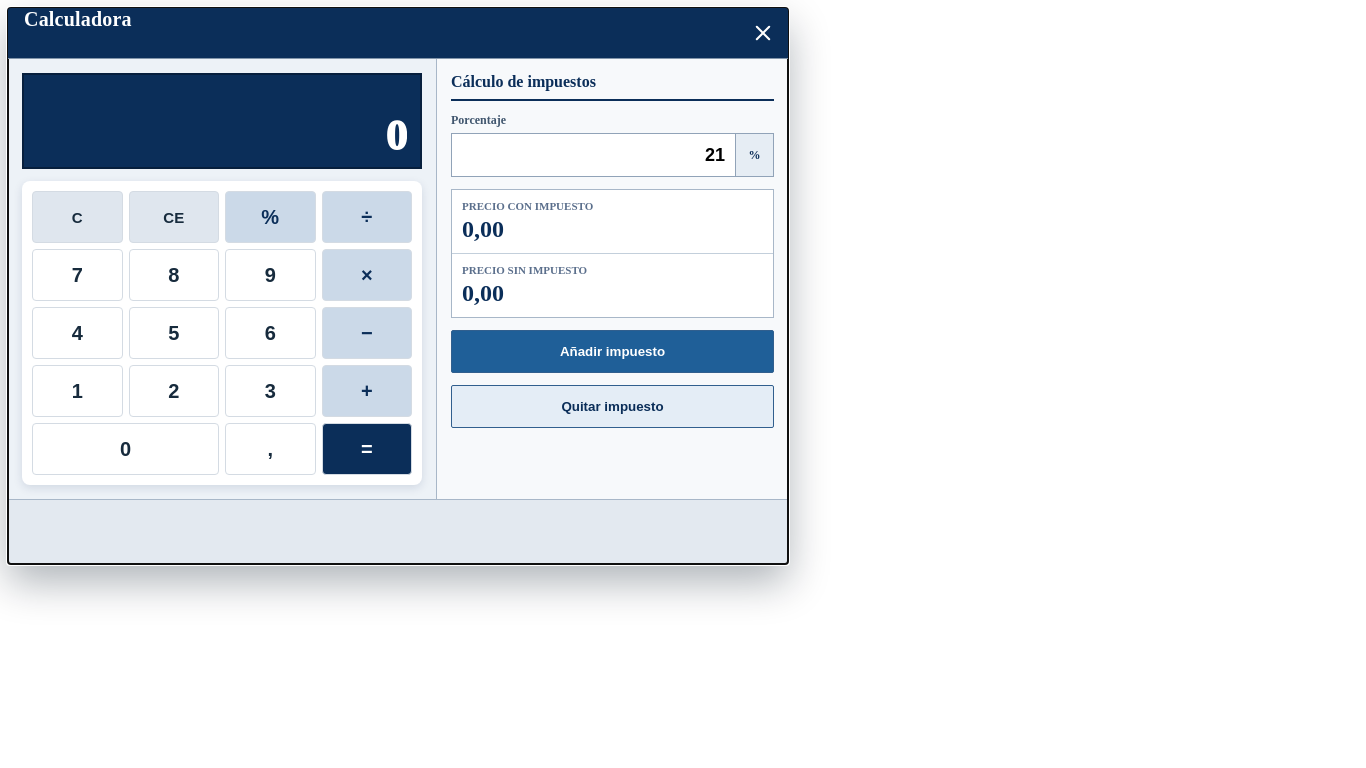
Test: SaleCalculatorDialog interaction › returns the keypad to arithmetic after selecting the display or an operator
This screenshot has width=1366, height=768.
Click the button "7" at [77, 275], box [32, 249, 122, 301]
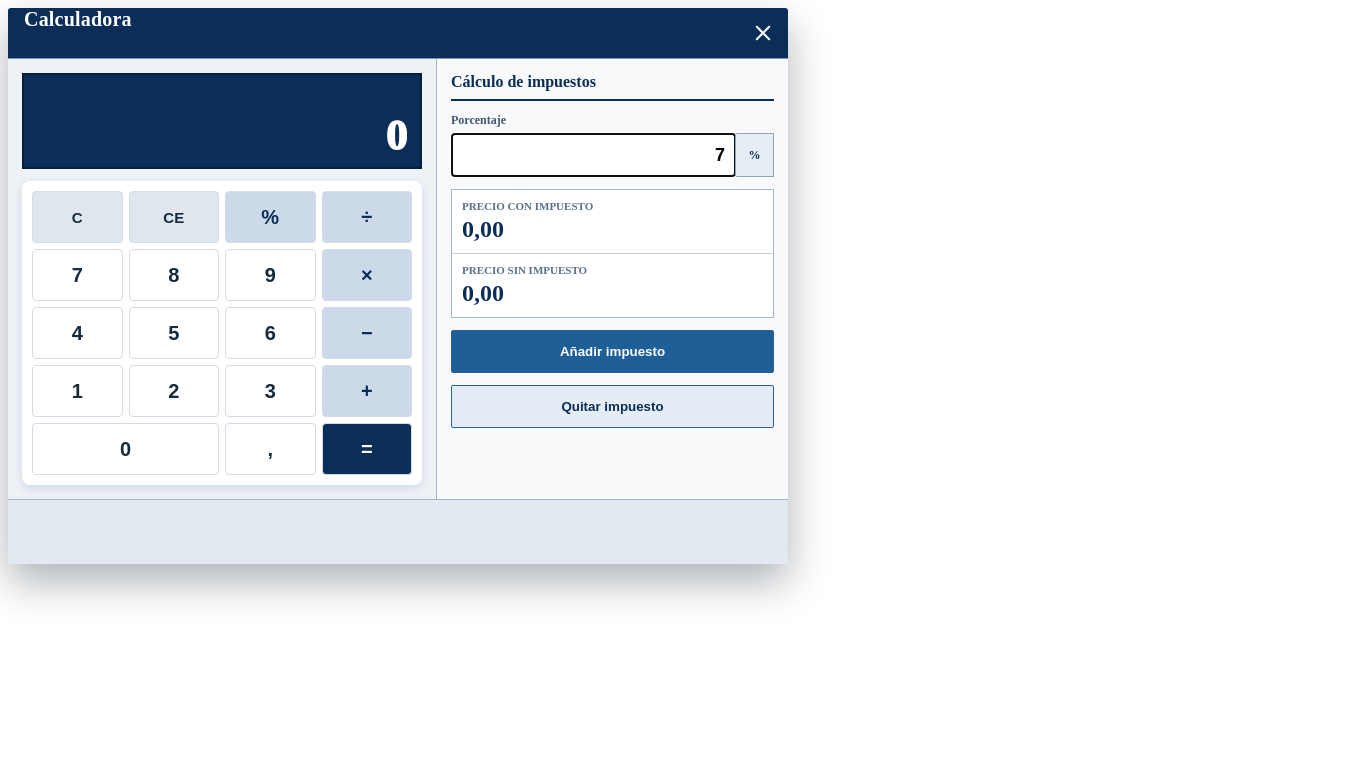
Click the element with class "sale-calculator-display" at [222, 121], box [22, 73, 422, 169]
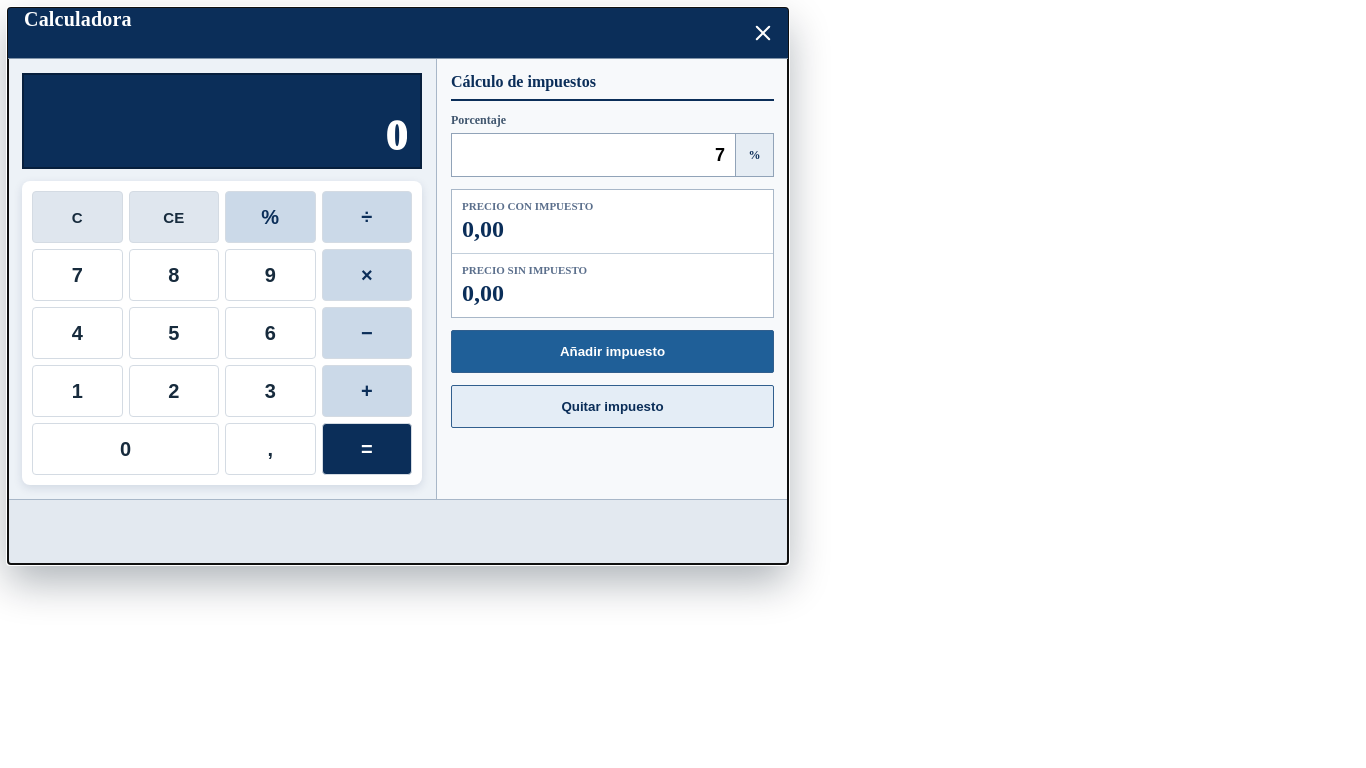
Click the button "8" at [174, 275], box [128, 249, 219, 301]
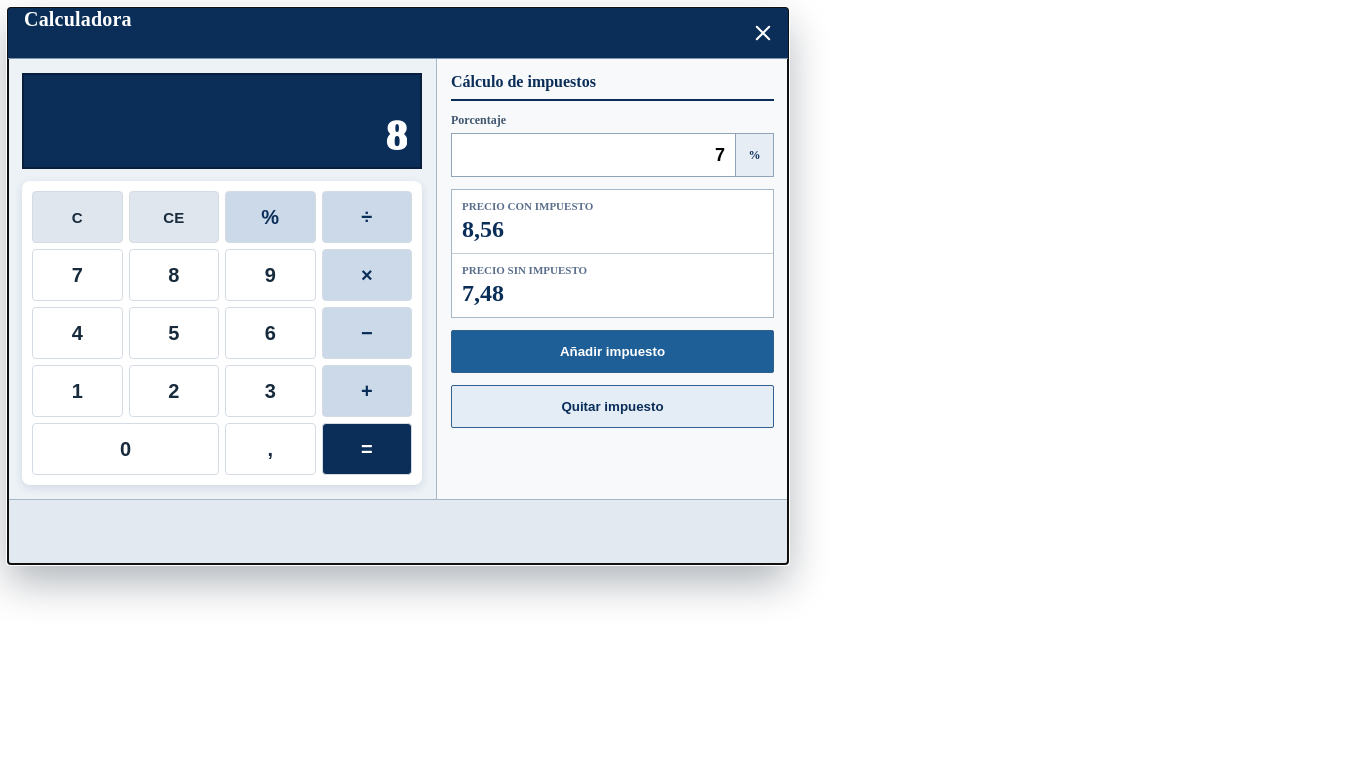
Result: the field showing "21" holds "7" at [452, 134, 735, 176]
Result: the text "8" is shown at [386, 114, 407, 157]
Click the button "+" at [367, 391], box [322, 365, 412, 417]
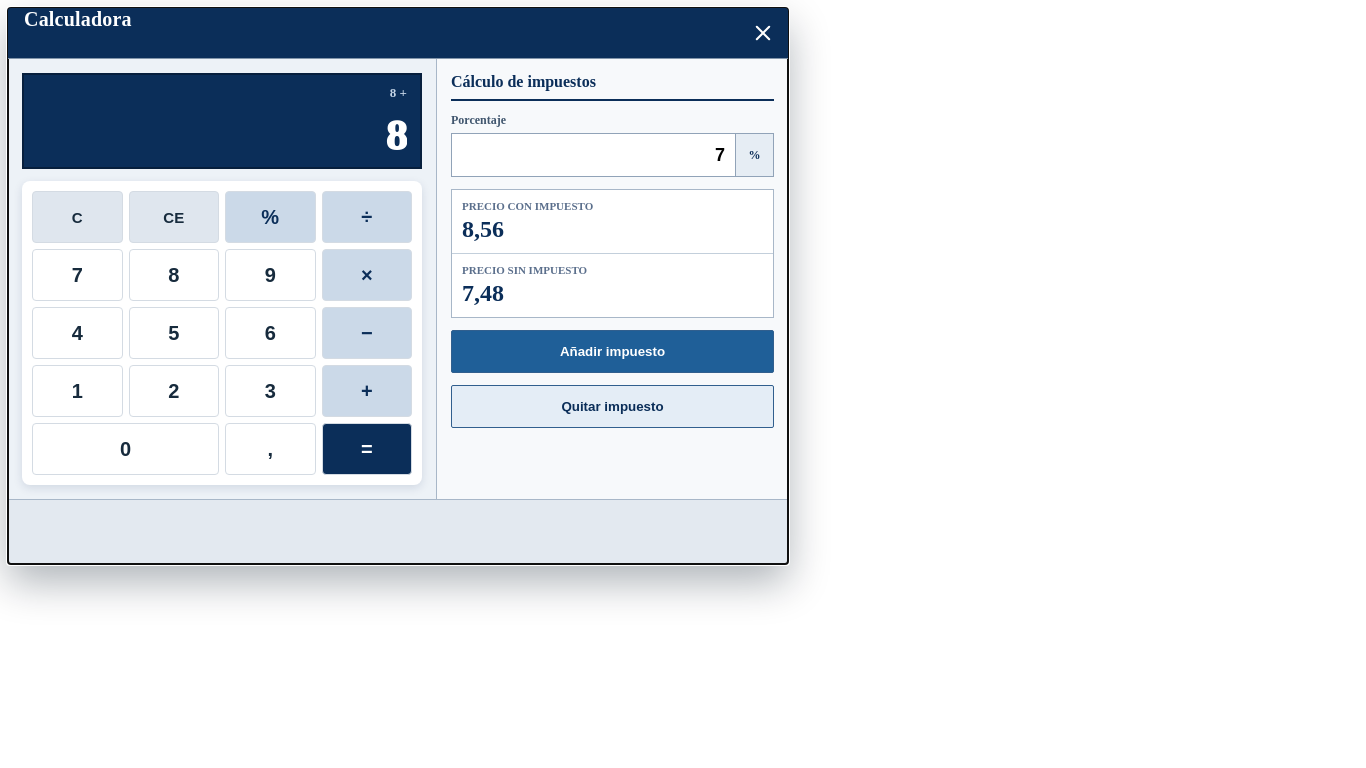
Click the button "2" at [174, 391], box [128, 365, 219, 417]
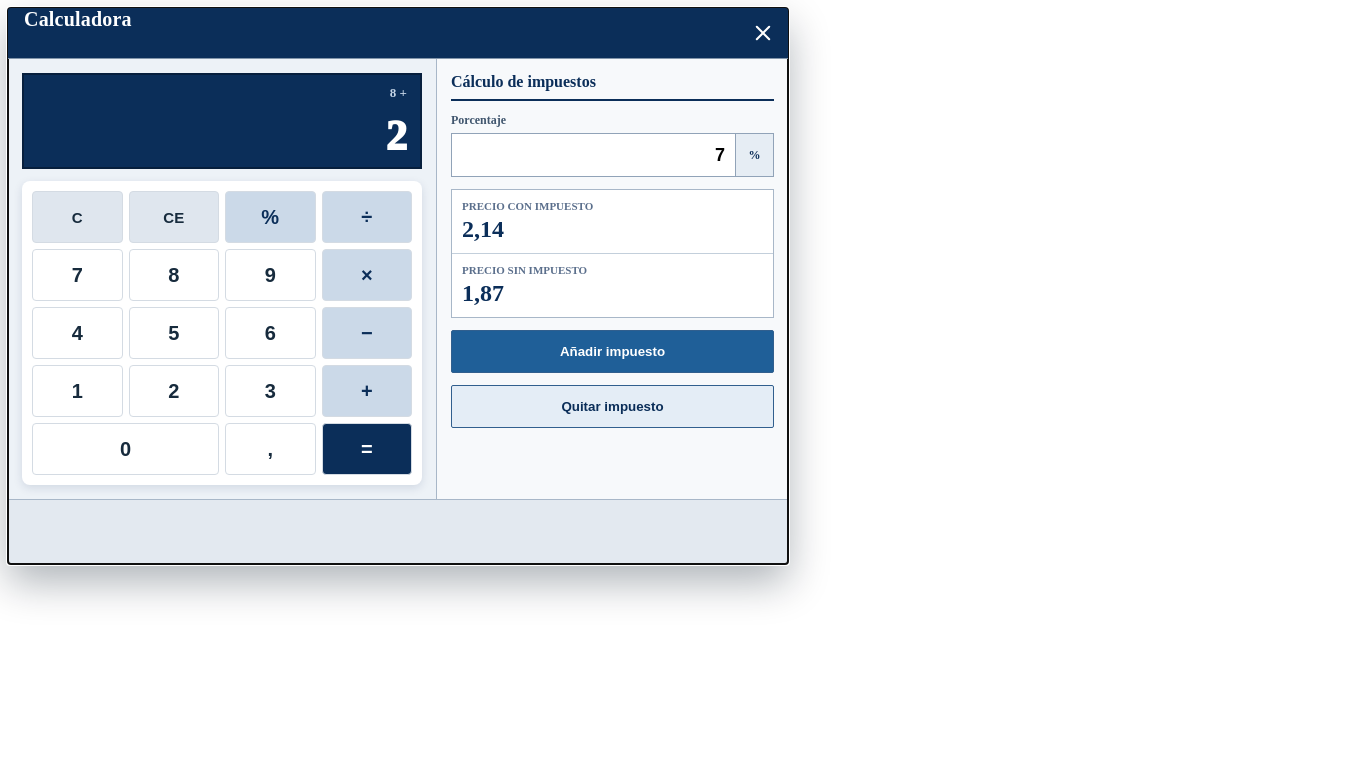
Click the button named "Resultado" at [367, 449], box [322, 423, 412, 475]
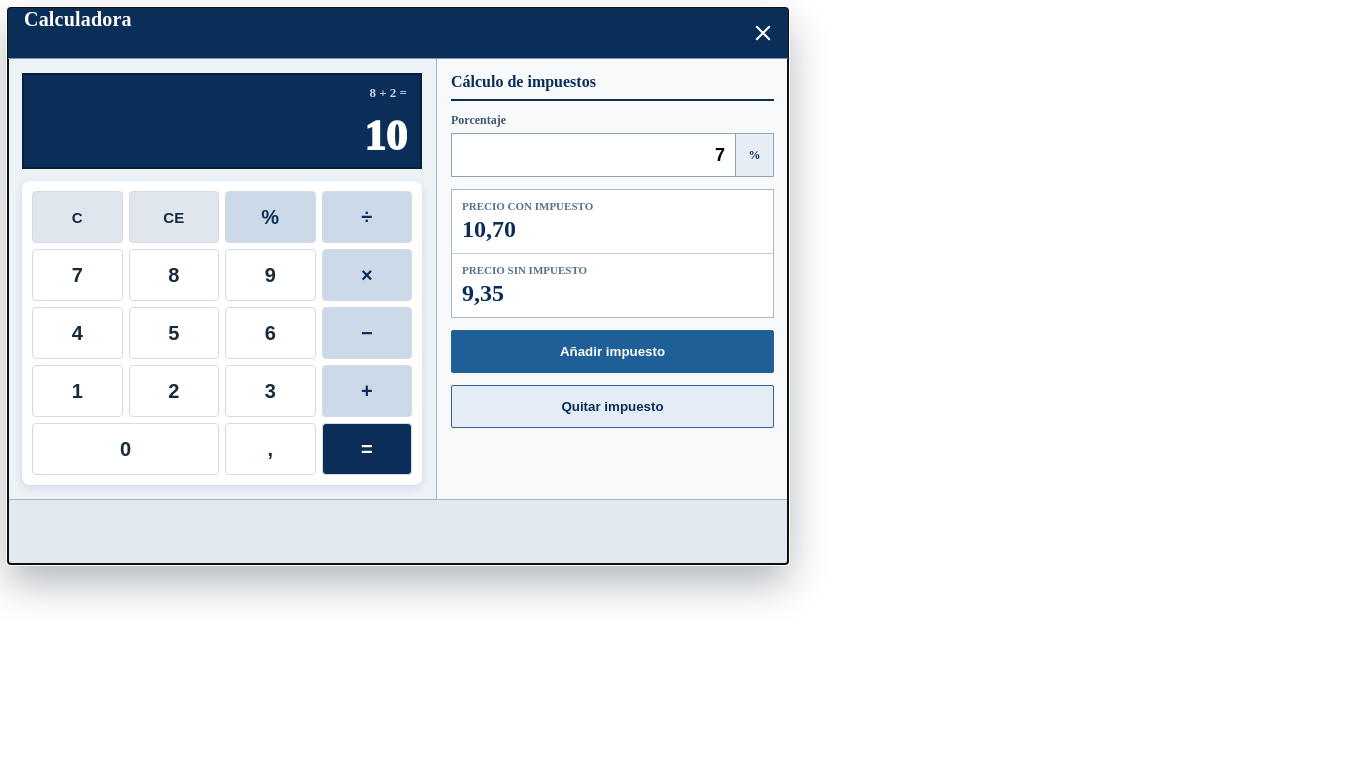
Result: the field showing "21" holds "7" at [452, 134, 735, 176]
Result: the text "10" is shown at [364, 114, 407, 157]
